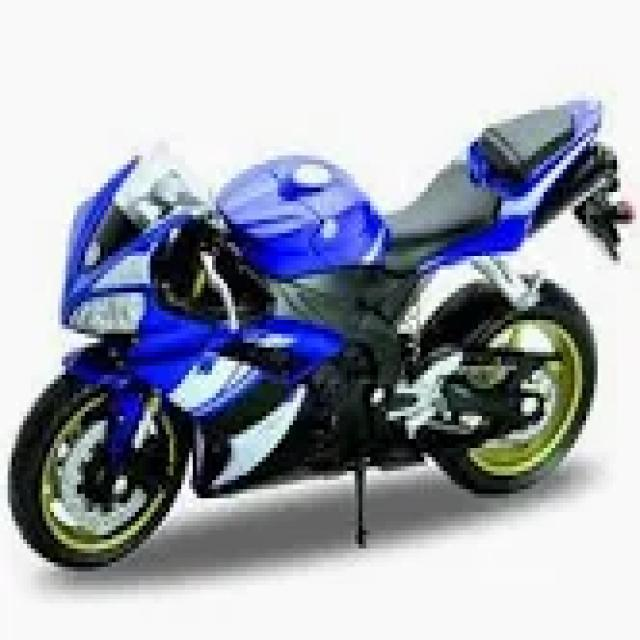motorcycle: (4, 91, 632, 567)
